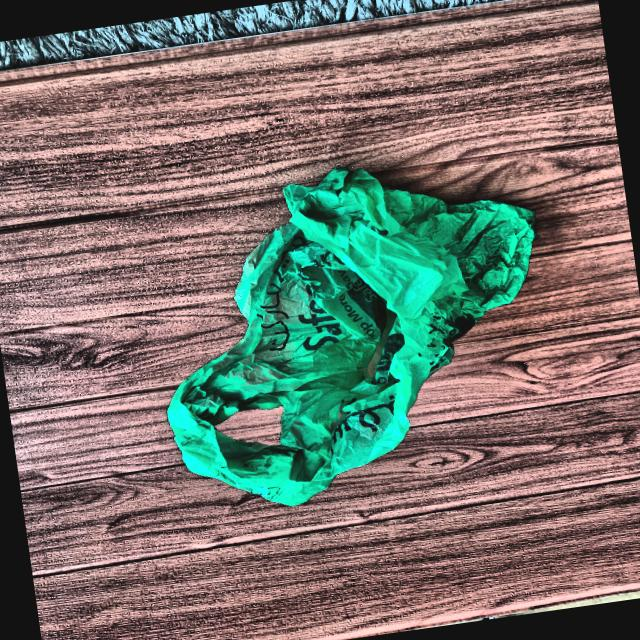plastic bag: (140, 138, 575, 528)
